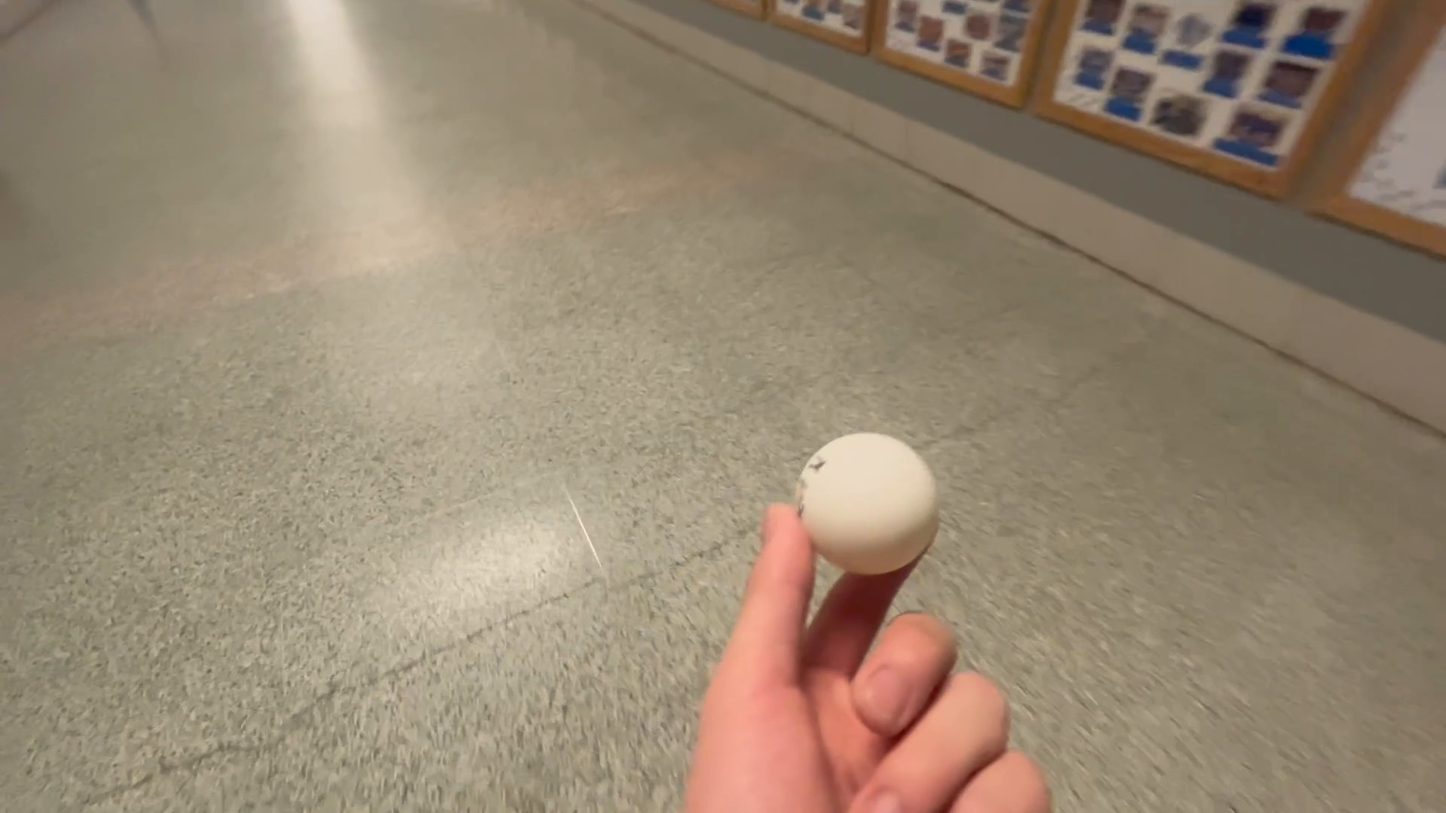Ball: (778, 432, 955, 574)
